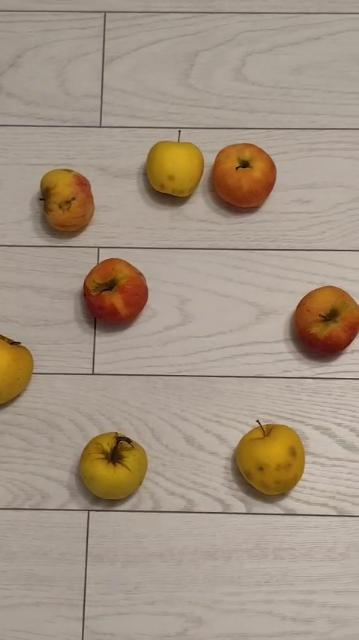apple_green: (235, 418, 305, 494), (78, 431, 147, 499), (145, 139, 204, 197), (0, 331, 34, 405)
apple_red: (293, 286, 358, 355), (83, 258, 148, 324), (212, 143, 277, 208), (38, 168, 93, 232)
